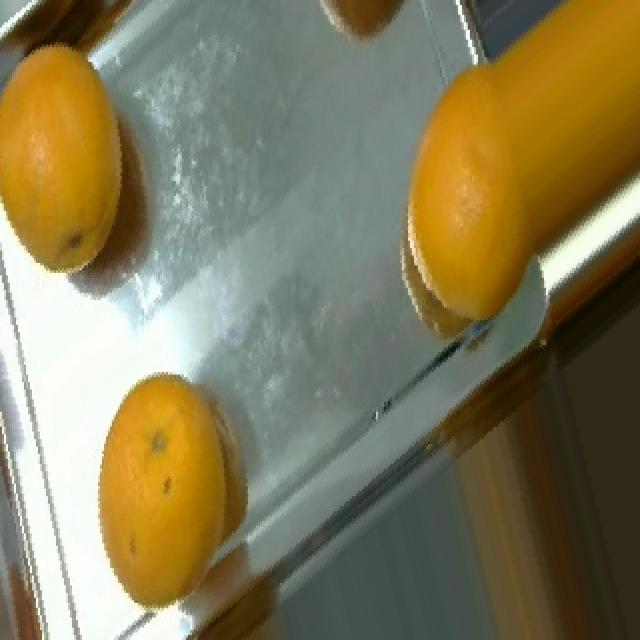Fruit: (6, 0, 178, 82), (298, 0, 426, 62)
